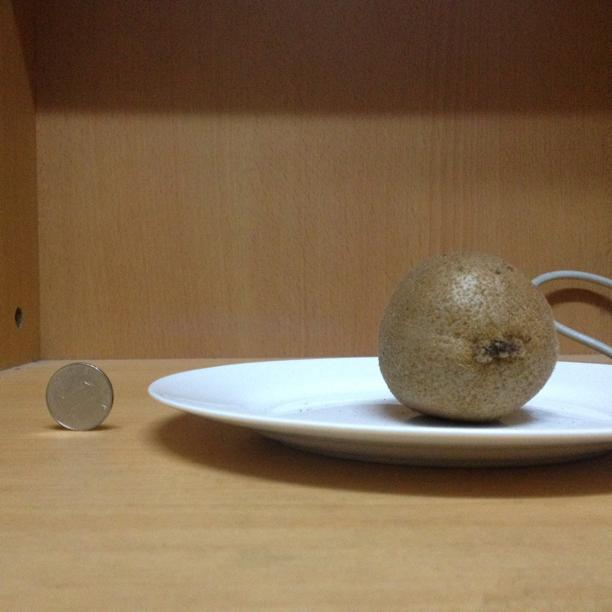coin: (40, 364, 114, 430)
qiwi: (376, 251, 555, 418)
